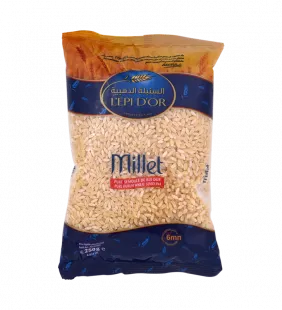L'EPI D'OR: (52, 20, 235, 284)
